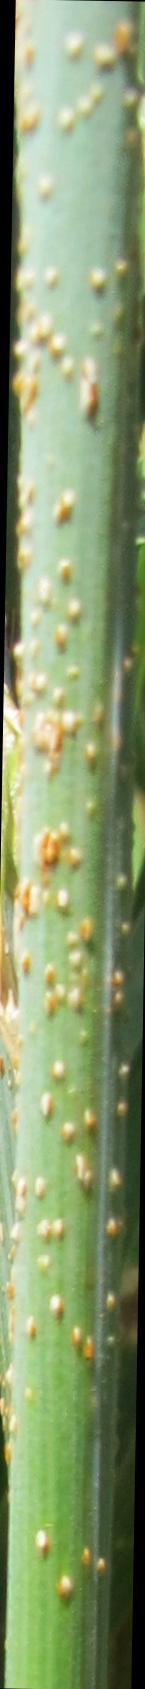Sugarcane: (23, 19, 124, 1689)
